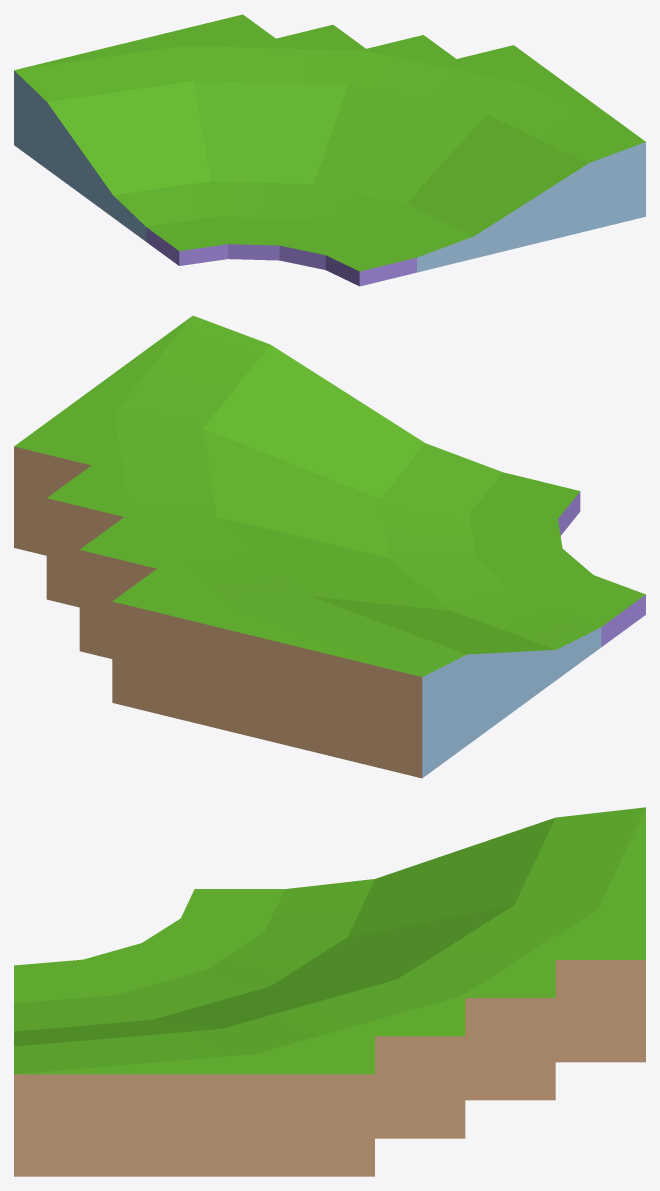
Rendered from Grass_Hill_Gentle_Curve_Inner_6x6.glb.
3 renders of one model, top to bottom at view 1: azimuth 30°, elevation 25°; view 2: azimuth 150°, elevation 25°; view 3: azimuth 270°, elevation 25°, orthographic. The views are drawn at different scales.
Parts seen in each view (by area): view 1: Grass_Hill_Gentle_Curve_Inner_6x6; view 2: Grass_Hill_Gentle_Curve_Inner_6x6; view 3: Grass_Hill_Gentle_Curve_Inner_6x6.
Part boxes in pixels (left/top/right/bottom): Grass_Hill_Gentle_Curve_Inner_6x6: left=14, top=14, right=645, bottom=286; Grass_Hill_Gentle_Curve_Inner_6x6: left=14, top=315, right=645, bottom=778; Grass_Hill_Gentle_Curve_Inner_6x6: left=14, top=807, right=645, bottom=1176.
Size of the model in its own units: 700 by 125 by 700.
